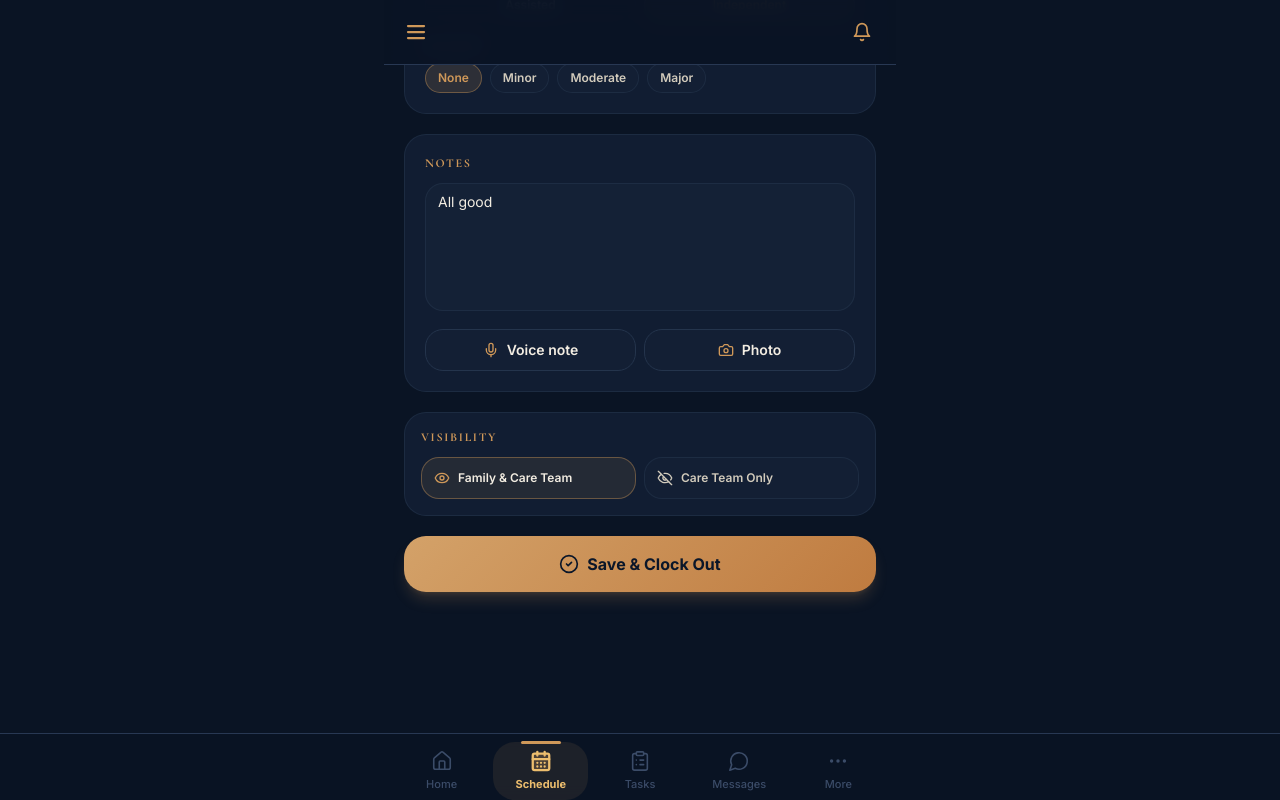
Test case: CareNotesPage — GPS verification on Save & Clock Out › blocks clock-out when client coordinates are not configured
(page scrolled)
Step 1. Click the button "Save & Clock Out" → {"x": 640, "y": 564}, box x1=404 y1=536 x2=876 y2=592
(page scrolled)
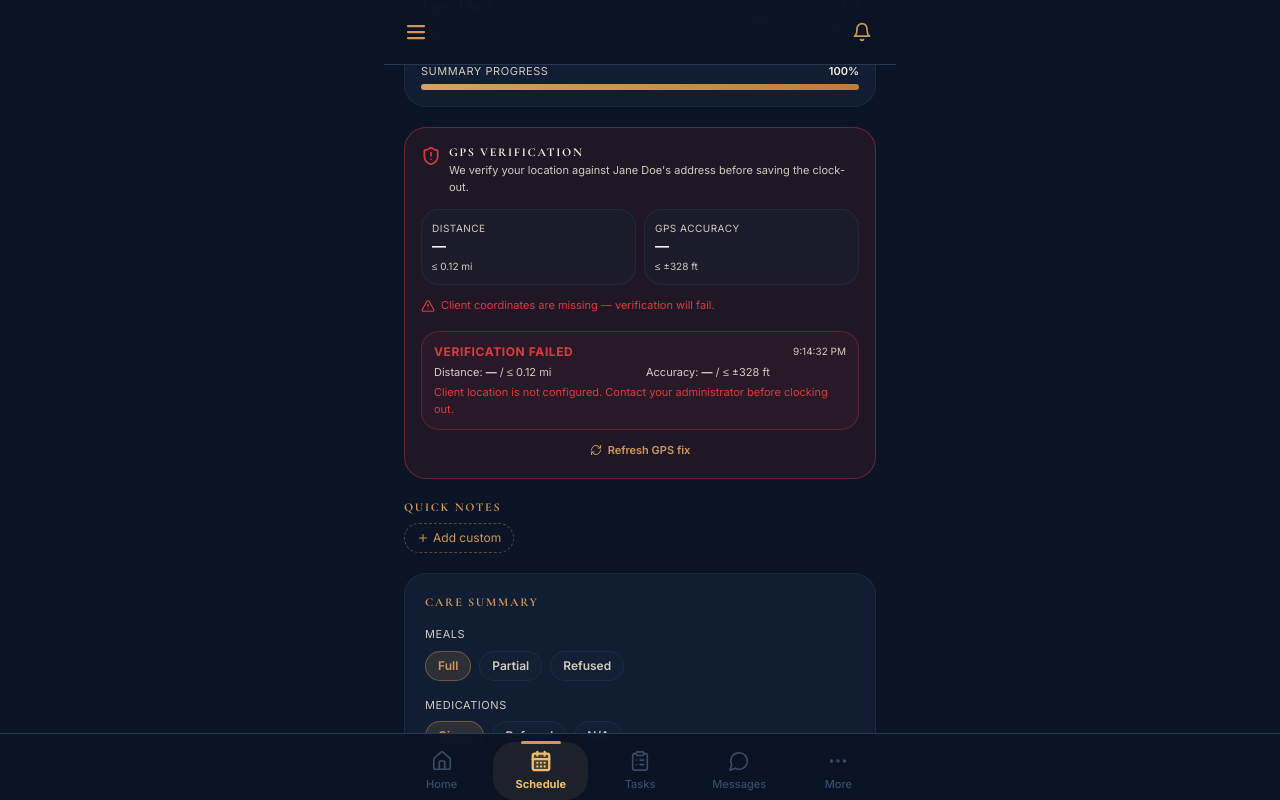
Check: the text "Client location is not configured" is shown, box x1=434 y1=385 x2=828 y2=416
